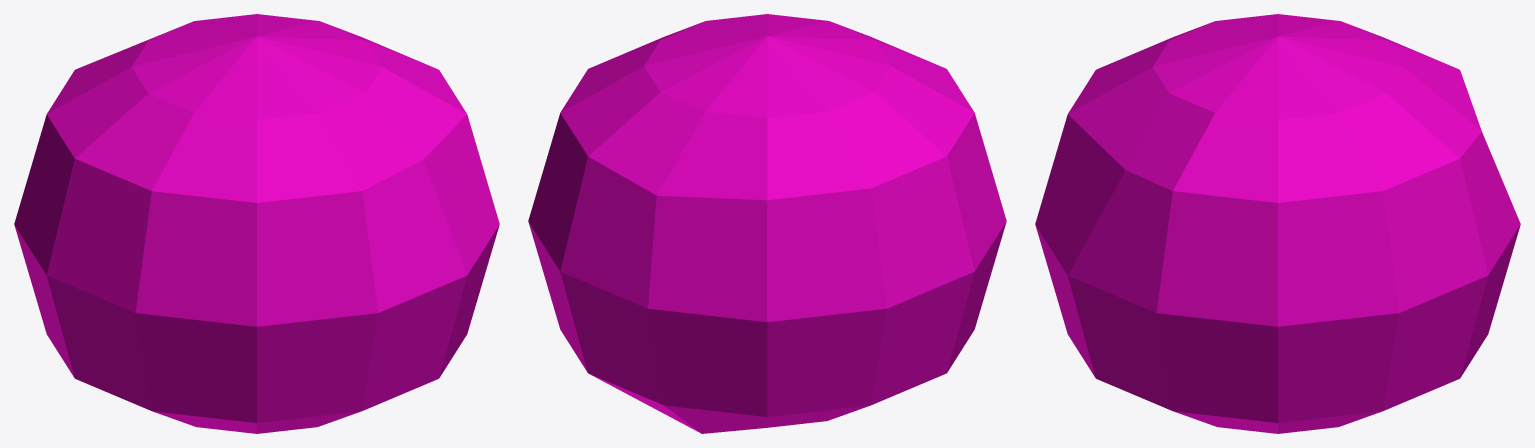
The model's file is Planet_ver1.fbx.
3 views of the same model, side by side, from view 1: azimuth 30°, elevation 25°; view 2: azimuth 150°, elevation 25°; view 3: azimuth 270°, elevation 25° (orthographic).
Parts seen in each view (by area): view 1: 球; view 2: 球; view 3: 球.
Boxes of the visible parts, x1=… form: 球: x1=14, y1=14, x2=499, y2=433; 球: x1=528, y1=14, x2=1006, y2=433; 球: x1=1035, y1=14, x2=1520, y2=433.
Size of the model in its own units: 200 by 171 by 200.
